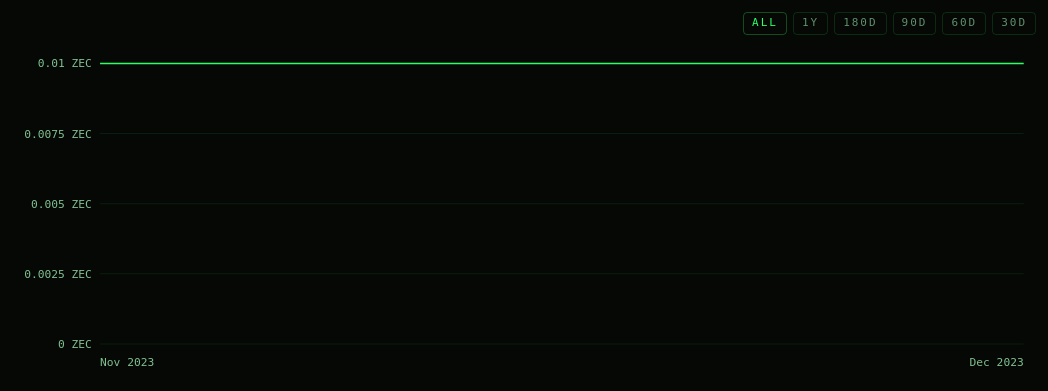
Test: fee-totals coverage › marks a period measured over fewer blocks as partial
The width and height of the screenshot is (1048, 391).
Focus the element named "use the arrow keys" at (524, 210), box x1=12 y1=46 x2=1036 y2=374
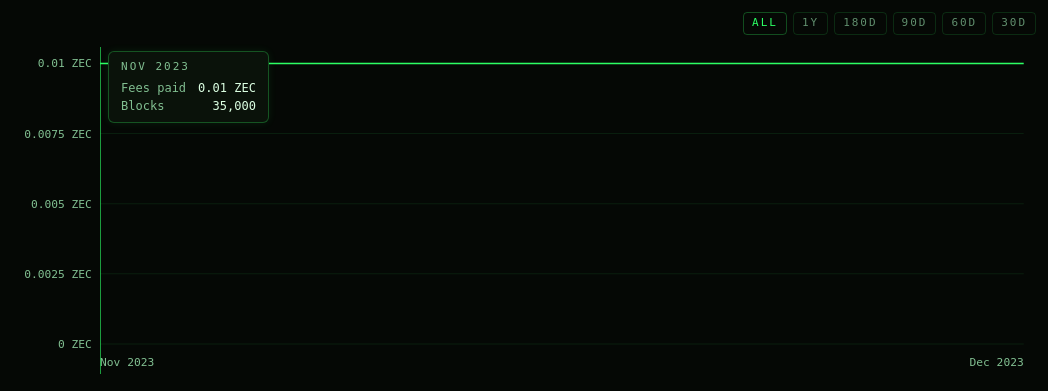
Press End in the element named "use the arrow keys"
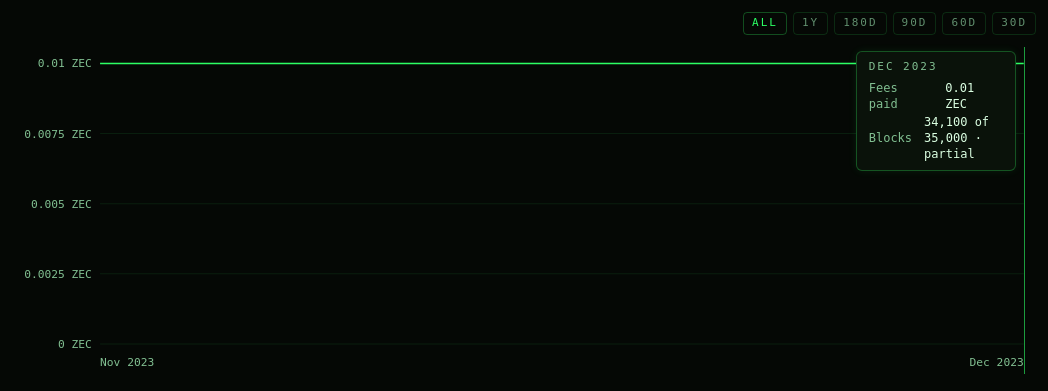
expect the message shows "34,100 of 35,000 · partial": met, box x1=924 y1=115 x2=989 y2=161
